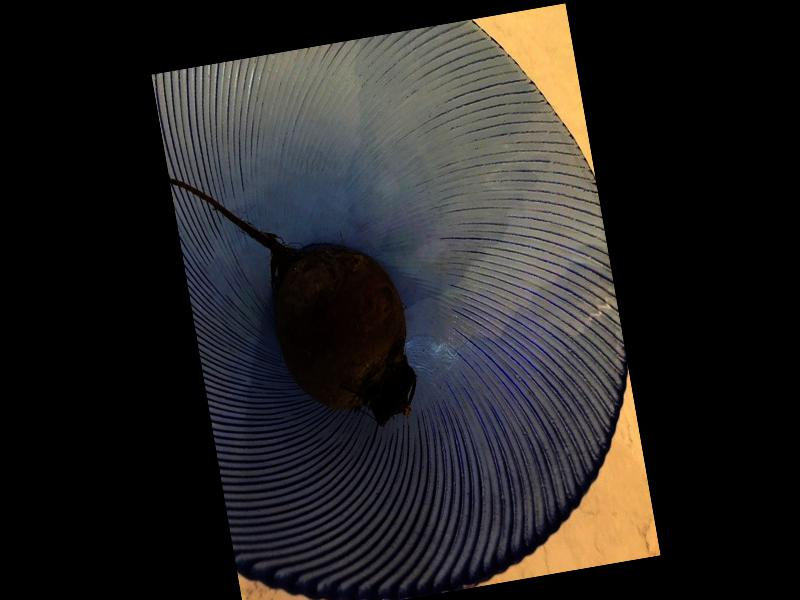Beet: (169, 144, 422, 453)
